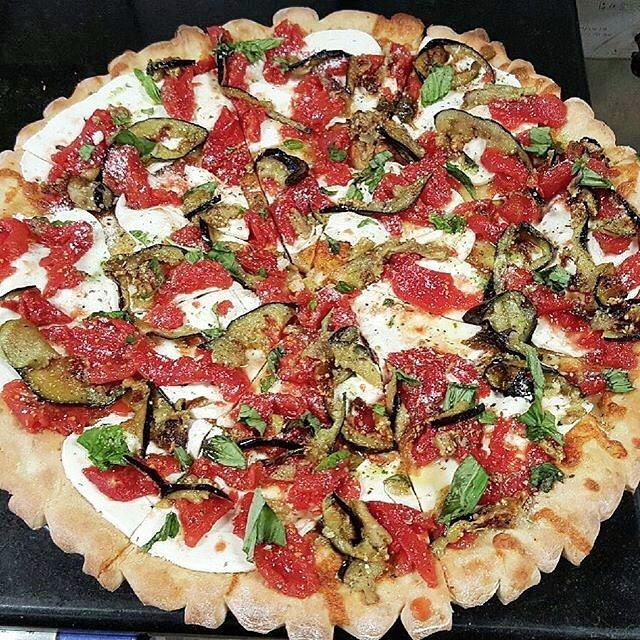Pizza: (0, 11, 640, 614)
Tomatoes: (237, 248, 356, 330), (379, 131, 450, 230), (368, 498, 440, 590), (391, 347, 477, 420), (485, 149, 575, 217), (142, 261, 229, 327), (59, 319, 138, 390), (555, 314, 640, 372), (389, 261, 472, 320), (155, 350, 248, 399), (39, 217, 96, 296), (107, 148, 175, 208), (201, 105, 252, 181), (172, 486, 232, 550), (252, 543, 319, 599), (259, 193, 335, 240), (84, 462, 154, 507), (483, 95, 569, 128), (305, 131, 355, 186), (294, 74, 349, 123)
